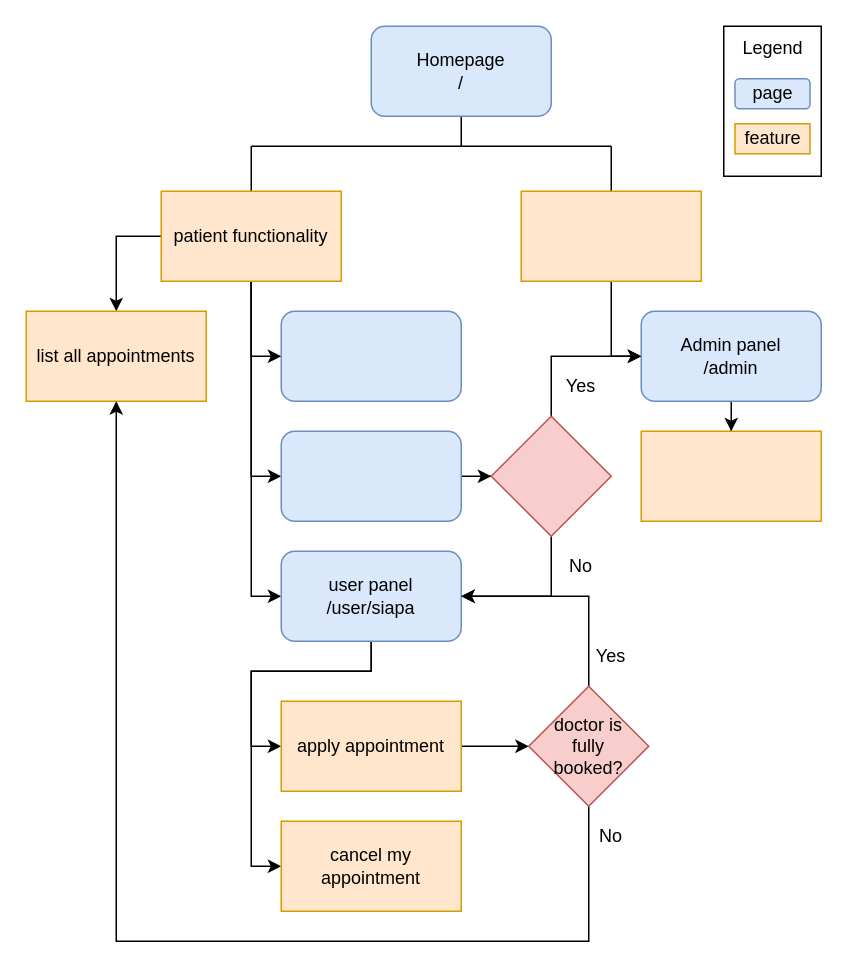
The diagram is 848 pixels wide and 980 high, and some of its shapes have lost their labels. The shapes that lost their labels are listed below. From the top down, each one's centre as x and y in pixels, then its label:
At (x=610, y=235): "admin functionality".
At (x=370, y=355): "register patient /register".
At (x=370, y=475): "login patient /login".
At (x=550, y=475): "logged in as admin?".
At (x=730, y=475): "CRUD doctor appointments".
